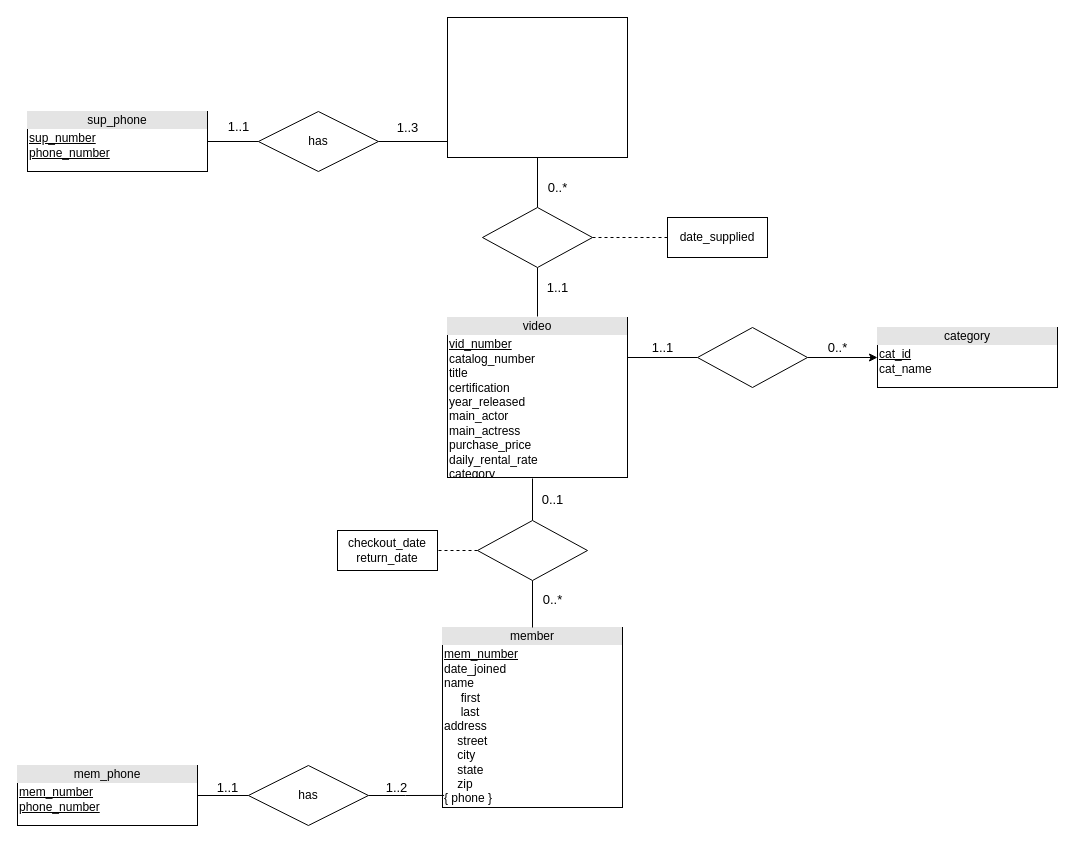
This 1075x843 diagram has some shape labels left out. Here are the shapes that lost their labels. From the top down, the centre of each, then its label:
At (537,87): "supplier sup_number name address street city state zip { phone }".
At (537,237): "supply".
At (752,357): "belong".
At (532,550): "borrow".
